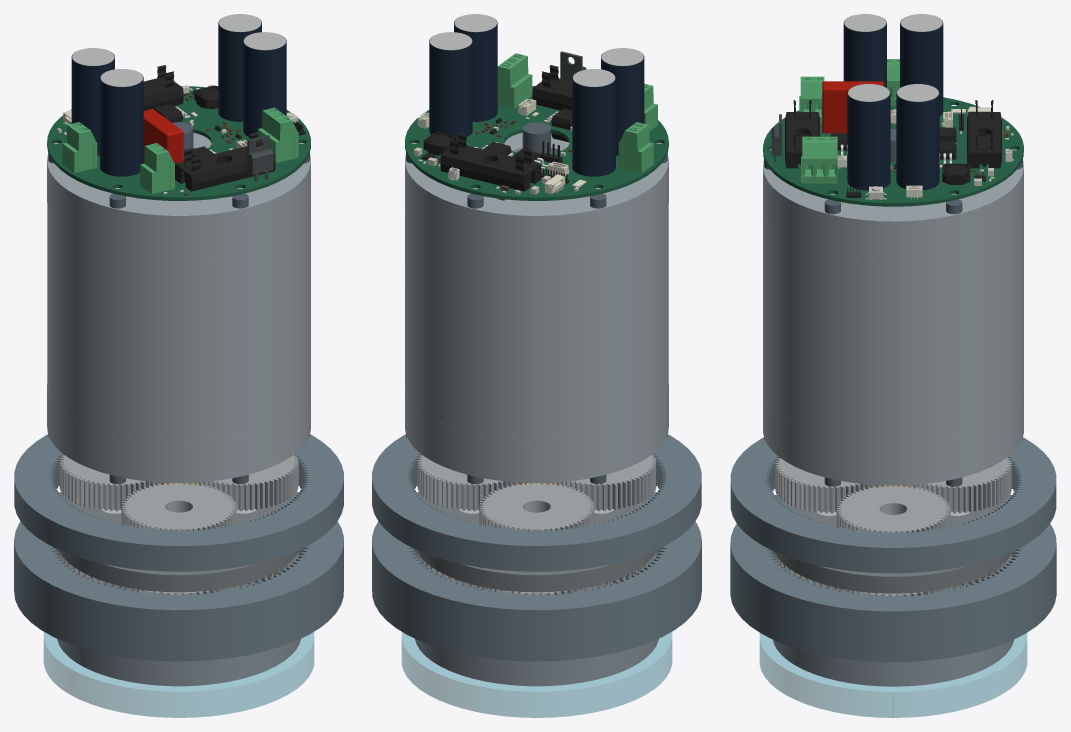
Rendered from actuator.glb.
The picture shows the model from 3 angles, left to right: view 1: azimuth 30°, elevation 25°; view 2: azimuth 150°, elevation 25°; view 3: azimuth 270°, elevation 25°; orthographic projection.
Visible parts, largest first — view 1: Motor - revision B/HousingBarrel, Two-stage planetary gearbox - concept/Stage 2 ring, Two-stage planetary gearbox - concept/Stage 1 ring, Motor - revision B/EndCap_right, Motor - revision B/EndCap_left, Bota BTS-T300-CAT - packaging envelope, Motor controller PCB/PCB substrate, Two-stage planetary gearbox - concept/Output flange, Two-stage planetary gearbox - concept/Stage 2 carrier - fron, Two-stage planetary gearbox - concept/Stage 1 planet 2, Motor controller PCB/C2/Maximum_can_envelope/Maximum_can_env, Motor controller PCB/C4/Maximum_can_envelope/Maximum_can_env (+15 smaller); view 2: Motor - revision B/HousingBarrel, Two-stage planetary gearbox - concept/Stage 2 ring, Two-stage planetary gearbox - concept/Stage 1 ring, Motor - revision B/EndCap_right, Motor - revision B/EndCap_left, Bota BTS-T300-CAT - packaging envelope, Motor controller PCB/PCB substrate, Two-stage planetary gearbox - concept/Output flange, Two-stage planetary gearbox - concept/Stage 2 carrier - fron, Two-stage planetary gearbox - concept/Stage 1 planet 3, Motor controller PCB/C1/Maximum_can_envelope/Maximum_can_env, Motor controller PCB/C3/Maximum_can_envelope/Maximum_can_env (+15 smaller); view 3: Motor - revision B/HousingBarrel, Two-stage planetary gearbox - concept/Stage 2 ring, Two-stage planetary gearbox - concept/Stage 1 ring, Motor - revision B/EndCap_right, Motor - revision B/EndCap_left, Bota BTS-T300-CAT - packaging envelope, Motor controller PCB/PCB substrate, Two-stage planetary gearbox - concept/Output flange, Two-stage planetary gearbox - concept/Stage 2 carrier - fron, Two-stage planetary gearbox - concept/Stage 1 planet 1, Motor controller PCB/C4/Maximum_can_envelope/Maximum_can_env, Motor controller PCB/C3/Maximum_can_envelope/Maximum_can_env (+14 smaller).
Part boxes in pixels (<box>): Motor - revision B/HousingBarrel: <box>47,205,310,440</box>; Two-stage planetary gearbox - concept/Stage 2 ring: <box>14,492,343,661</box>; Two-stage planetary gearbox - concept/Stage 1 ring: <box>14,434,343,571</box>; Motor - revision B/EndCap_right: <box>47,133,310,258</box>; Motor - revision B/EndCap_left: <box>47,383,310,482</box>; Bota BTS-T300-CAT - packaging envelope: <box>43,632,314,717</box>; Motor controller PCB/PCB substrate: <box>47,86,310,200</box>; Two-stage planetary gearbox - concept/Output flange: <box>57,638,300,686</box>; Two-stage planetary gearbox - concept/Stage 2 carrier - fron: <box>59,500,299,592</box>; Two-stage planetary gearbox - concept/Stage 1 planet 2: <box>121,483,236,530</box>; Motor controller PCB/C2/Maximum_can_envelope/Maximum_can_env: <box>100,72,143,176</box>; Motor controller PCB/C4/Maximum_can_envelope/Maximum_can_env: <box>243,35,286,136</box>; Motor - revision B/HousingBarrel: <box>405,205,668,440</box>; Two-stage planetary gearbox - concept/Stage 2 ring: <box>372,492,701,661</box>; Two-stage planetary gearbox - concept/Stage 1 ring: <box>372,434,701,571</box>; Motor - revision B/EndCap_right: <box>405,133,668,258</box>; Motor - revision B/EndCap_left: <box>405,383,668,482</box>; Bota BTS-T300-CAT - packaging envelope: <box>401,632,672,717</box>; Motor controller PCB/PCB substrate: <box>405,86,668,200</box>; Two-stage planetary gearbox - concept/Output flange: <box>415,638,658,686</box>; Two-stage planetary gearbox - concept/Stage 2 carrier - fron: <box>416,500,656,592</box>; Two-stage planetary gearbox - concept/Stage 1 planet 3: <box>479,483,594,530</box>; Motor controller PCB/C1/Maximum_can_envelope/Maximum_can_env: <box>572,71,615,176</box>; Motor controller PCB/C3/Maximum_can_envelope/Maximum_can_env: <box>429,35,472,137</box>; Motor - revision B/HousingBarrel: <box>763,211,1023,443</box>; Two-stage planetary gearbox - concept/Stage 2 ring: <box>730,494,1056,661</box>; Two-stage planetary gearbox - concept/Stage 1 ring: <box>730,437,1056,573</box>; Motor - revision B/EndCap_right: <box>763,149,1023,263</box>; Motor - revision B/EndCap_left: <box>763,388,1023,485</box>; Bota BTS-T300-CAT - packaging envelope: <box>759,633,1027,717</box>; Motor controller PCB/PCB substrate: <box>763,97,1023,206</box>; Two-stage planetary gearbox - concept/Output flange: <box>773,640,1013,686</box>; Two-stage planetary gearbox - concept/Stage 2 carrier - fron: <box>774,502,1012,593</box>; Two-stage planetary gearbox - concept/Stage 1 planet 1: <box>836,485,950,533</box>; Motor controller PCB/C4/Maximum_can_envelope/Maximum_can_env: <box>847,87,890,190</box>; Motor controller PCB/C3/Maximum_can_envelope/Maximum_can_env: <box>896,87,939,190</box>.
Size of the model in its own units: 0.14 by 0.2859 by 0.1399.
